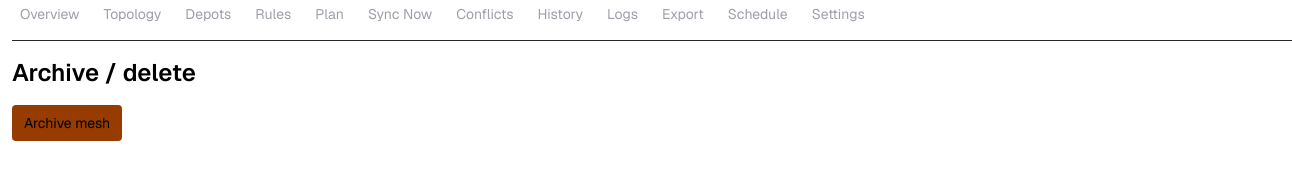
Scenario: MeshArchiveClient [IMPL-MESH_GUI] › archive_mesh_btn_archives_and_navigates
Step 1. Click the button with test id "archive-mesh-btn" → (67, 123), box x1=12 y1=105 x2=122 y2=141
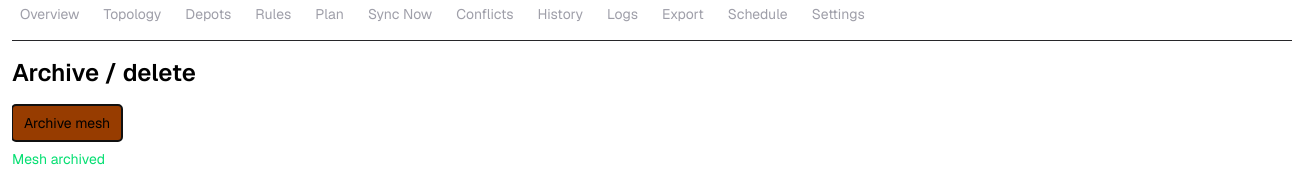
Expected: the text "Mesh archived" is shown, x1=12 y1=150 x2=105 y2=168
